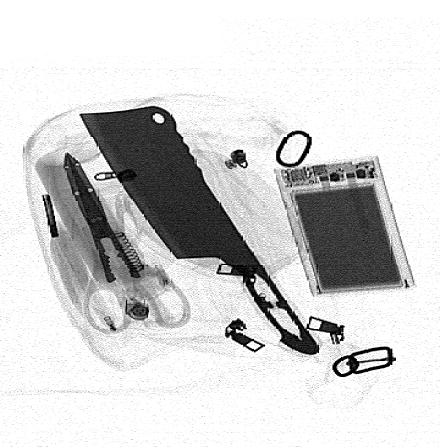Knife: (76, 106, 326, 357)
Powerbank: (273, 155, 420, 300)
Scissors: (62, 150, 192, 337)
